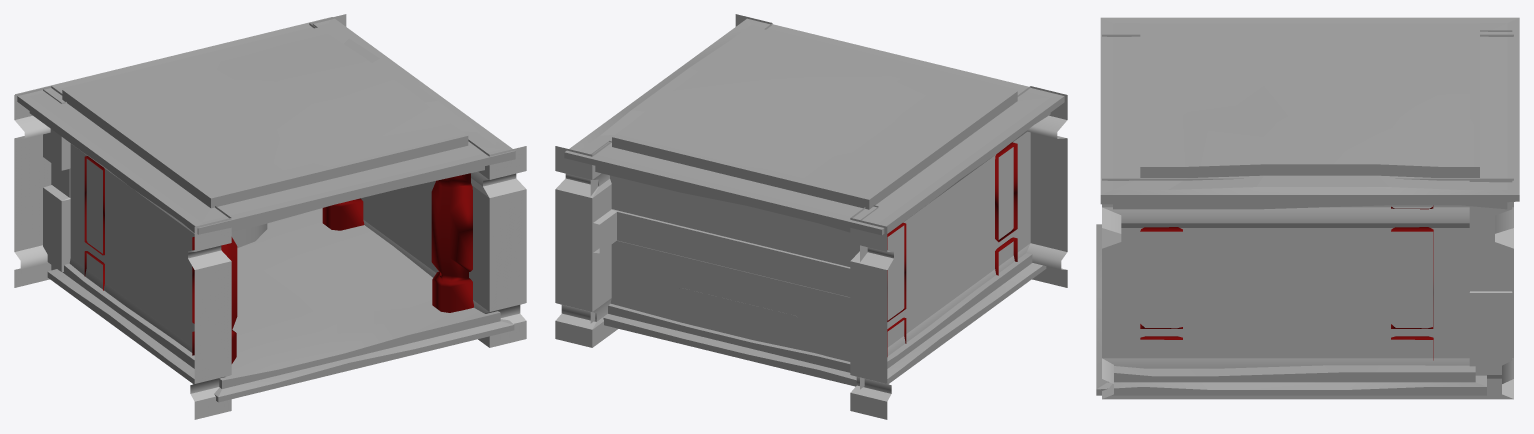
Rendered from InsideOfAztecTemple.fbx.
3 views of the same model, side by side, from view 1: azimuth 30°, elevation 25°; view 2: azimuth 150°, elevation 25°; view 3: azimuth 270°, elevation 25° (orthographic). The views are drawn at different scales.
Parts seen in each view (by area): view 1: polySurface72, polySurface96, polySurface79, pasted__pasted__pasted__polySurface90, polySurface93, pasted__pasted__polySurface90, pasted__polySurface90, polySurface90, pCylinder25; view 2: polySurface72, polySurface96, polySurface93, polySurface79, pasted__pasted__polySurface90, polySurface90; view 3: polySurface72, polySurface96, polySurface79, polySurface93, pasted__polySurface90, pasted__pasted__pasted__polySurface90.
Part boxes in pixels (left/top/right/bottom): polySurface72: left=15, top=17, right=515, bottom=234; polySurface96: left=14, top=14, right=526, bottom=419; polySurface79: left=47, top=208, right=514, bottom=402; pasted__pasted__pasted__polySurface90: left=431, top=173, right=473, bottom=312; polySurface93: left=43, top=24, right=317, bottom=272; pasted__pasted__polySurface90: left=192, top=237, right=237, bottom=363; pasted__polySurface90: left=322, top=198, right=364, bottom=230; polySurface90: left=84, top=156, right=104, bottom=290; pCylinder25: left=231, top=223, right=267, bottom=247; polySurface72: left=564, top=18, right=1064, bottom=235; polySurface96: left=555, top=14, right=1067, bottom=419; polySurface93: left=590, top=141, right=878, bottom=389; polySurface79: left=603, top=253, right=1046, bottom=386; pasted__pasted__polySurface90: left=995, top=142, right=1017, bottom=275; polySurface90: left=887, top=222, right=906, bottom=356; polySurface72: left=1100, top=17, right=1519, bottom=209; polySurface96: left=1102, top=34, right=1513, bottom=399; polySurface79: left=1096, top=224, right=1486, bottom=395; polySurface93: left=1469, top=30, right=1512, bottom=374; pasted__polySurface90: left=1391, top=205, right=1433, bottom=360; pasted__pasted__pasted__polySurface90: left=1140, top=227, right=1182, bottom=339.
Bounding box in the file's own units: 9.53 × 5.58 × 9.21.
